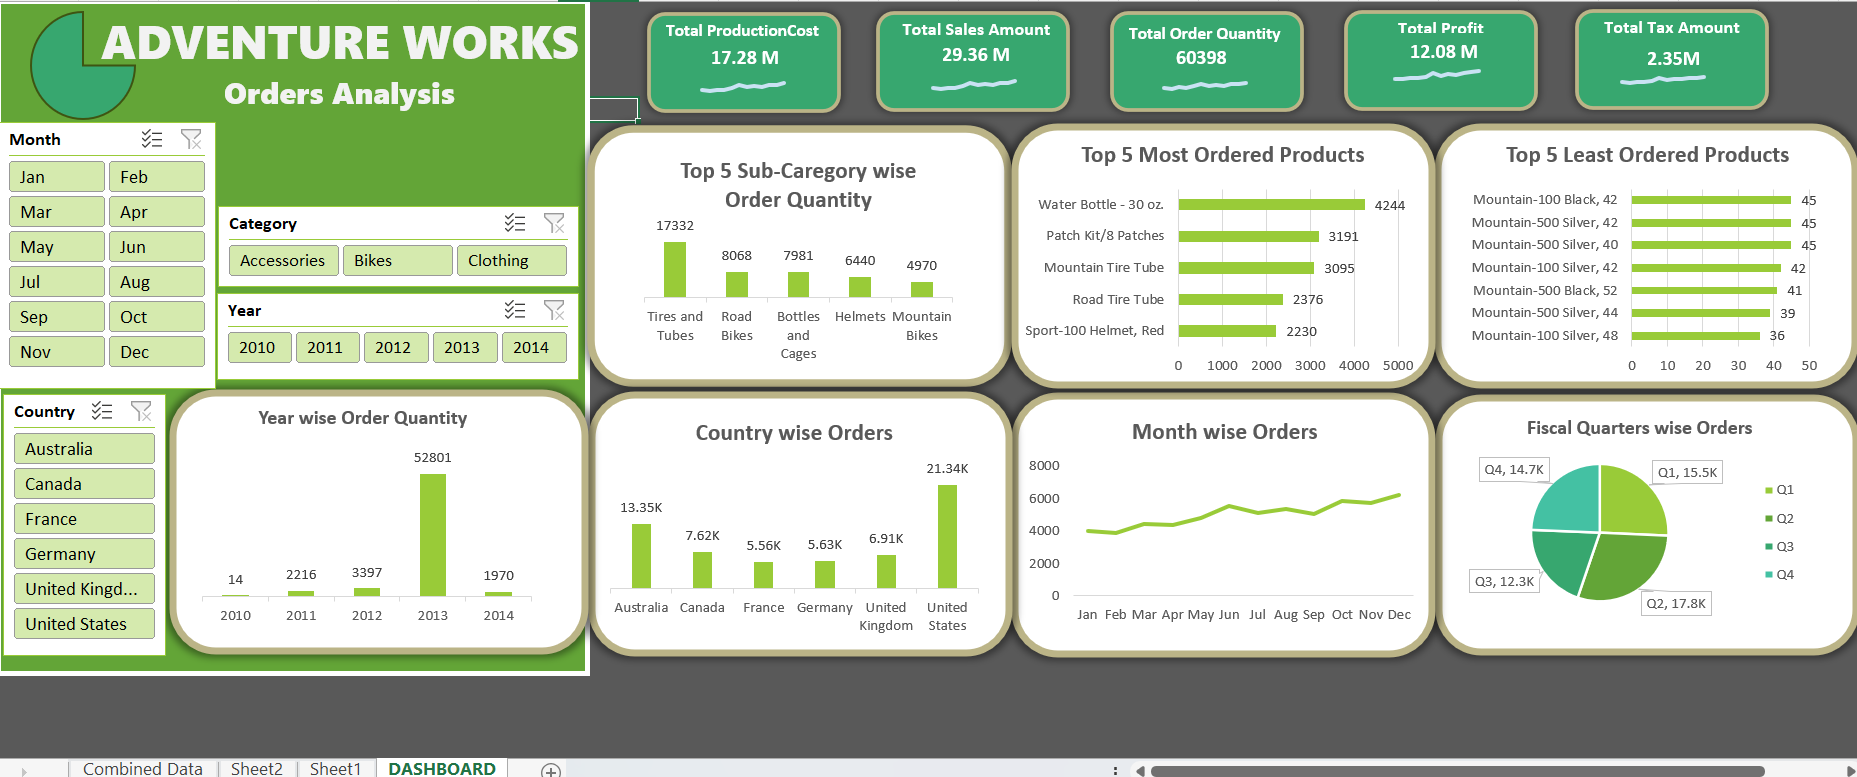

The dashboard page shown, as its layout file describes it:
{"tool":"tableau","page":{"name":"Order DB","canvas":[1000,1000],"units":"permille","ordinal":0},"visuals":[{"type":"title","box":[4.2,10,991.5,63.7]},{"type":"worksheet","title":"Product","mark":"Automatic","box":[4.2,73.7,155.8,129.5]},{"type":"worksheet","title":"Tax","mark":"Automatic","box":[160,73.7,188.9,916.4]},{"type":"worksheet","title":"Order","mark":"Automatic","box":[349,73.7,197.4,916.4]},{"type":"worksheet","title":"Sales","mark":"Automatic","box":[546.4,73.7,203.5,916.4]},{"type":"worksheet","title":"Profit","mark":"Automatic","box":[749.9,73.7,245.9,916.4]},{"type":"image","param":"Image/adventure work logo.png","box":[4.2,203.2,155.8,76.4]},{"type":"worksheet","title":"Least Products","mark":"Automatic","rows":["OrderQuantity"],"cols":["EnglishProductName"],"box":[712.4,208.5,281.2,260.9]},{"type":"worksheet","title":"Sub Category","mark":"Automatic","rows":["EnglishProductSubcategoryName"],"cols":["OrderQuantity"],"box":[168.7,209.7,246.1,262.2]},{"type":"worksheet","title":"Ordered Products","mark":"Automatic","rows":["OrderQuantity"],"cols":["EnglishProductName"],"box":[427.1,209.7,271.8,259.7]},{"type":"filter","title":"Interactions","param":"[federated.1igmwji03699eh17bwwhh0wy6o8f].[none:EnglishProductCategoryName:nk]","box":[12.3,283.4,148.2,164.8]},{"type":"worksheet","title":"Interactions","mark":"Automatic","box":[111.9,410.7,333.3,333.3]},{"type":"filter","title":"Interactions","param":"[federated.1igmwji03699eh17bwwhh0wy6o8f].[none:SalesTerritoryCountry:nk]","box":[11.7,463.2,148.8,263.4]},{"type":"worksheet","title":"Pie Chart","mark":"Pie","box":[711.9,488.1,281.2,279.7]},{"type":"worksheet","title":"Month Wise Order","mark":"Square","rows":["OrderQuantity"],"cols":["EnglishMonthName"],"box":[426.5,493.1,275.9,274.7]},{"type":"worksheet","title":"Map","mark":"Multipolygon","box":[168.7,495.6,247.2,268.4]},{"type":"filter","title":"Interactions","param":"[federated.1igmwji03699eh17bwwhh0wy6o8f].[mn:OrderDate:ok]","box":[8.8,735.3,151.7,102.4]},{"type":"worksheet","title":"Year Wise Order","mark":"Area","rows":["OrderQuantity"],"cols":["FiscalYear"],"box":[169.5,776.5,823.1,203.5]},{"type":"filter","title":"Interactions","param":"[federated.1igmwji03699eh17bwwhh0wy6o8f].[yr:OrderDate:ok]","box":[8.2,845.2,152.9,131.1]}]}

Visuals, with their boxes on the dashboard's canvas, which has no fixed pixel size, in thousandths of its width and height (x1, y1, x2, y2). These are canvas units, not pixel positions in the 1857x777 screenshot, which may show the page scaled, cropped or inside an application window:
title: 4,10,996,74
"Product" worksheet: 4,74,160,203
"Tax" worksheet: 160,74,349,990
"Order" worksheet: 349,74,546,990
"Sales" worksheet: 546,74,750,990
"Profit" worksheet: 750,74,996,990
image: 4,203,160,280
"Least Products" worksheet: 712,208,994,469
"Sub Category" worksheet: 169,210,415,472
"Ordered Products" worksheet: 427,210,699,469
"Interactions" filter: 12,283,160,448
"Interactions" worksheet: 112,411,445,744
"Interactions" filter: 12,463,160,727
"Pie Chart" worksheet (Pie marks): 712,488,993,768
"Month Wise Order" worksheet (Square marks): 426,493,702,768
"Map" worksheet (Multipolygon marks): 169,496,416,764
"Interactions" filter: 9,735,160,838
"Year Wise Order" worksheet (Area marks): 170,776,993,980
"Interactions" filter: 8,845,161,976
